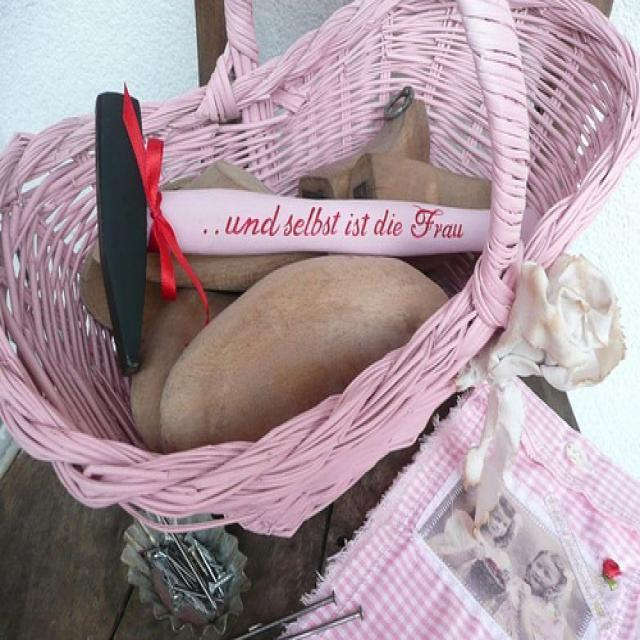hammer: (82, 78, 503, 393)
